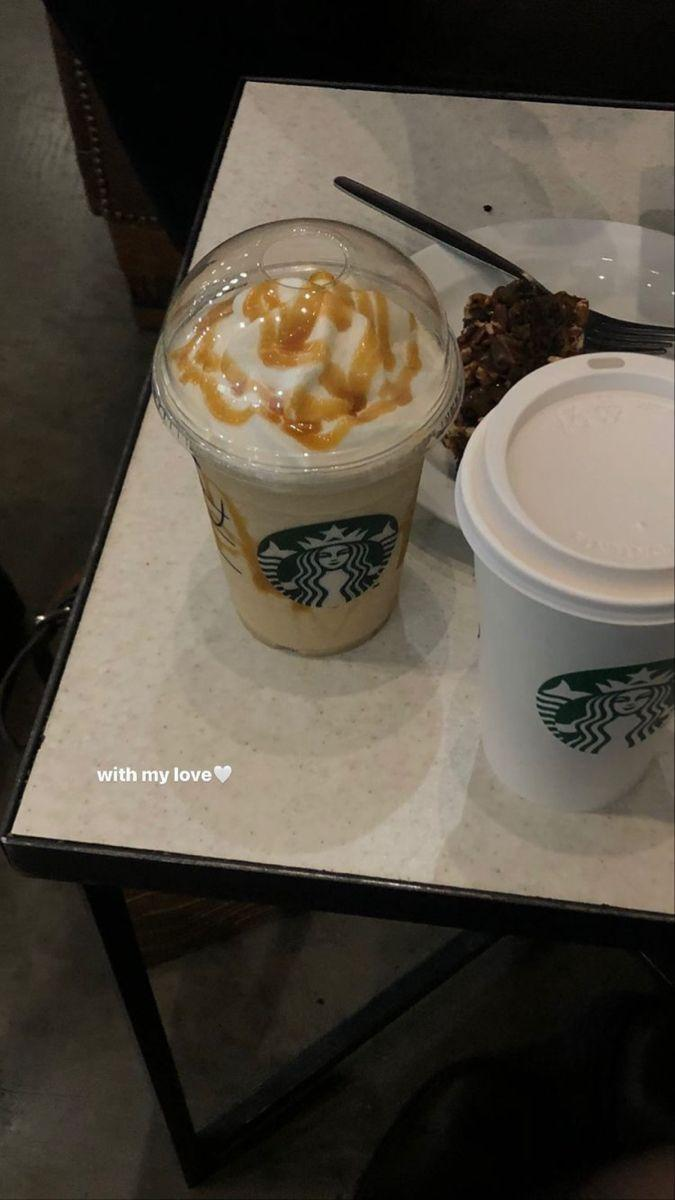cup-disposable: (156, 215, 461, 661), (451, 343, 674, 825)
